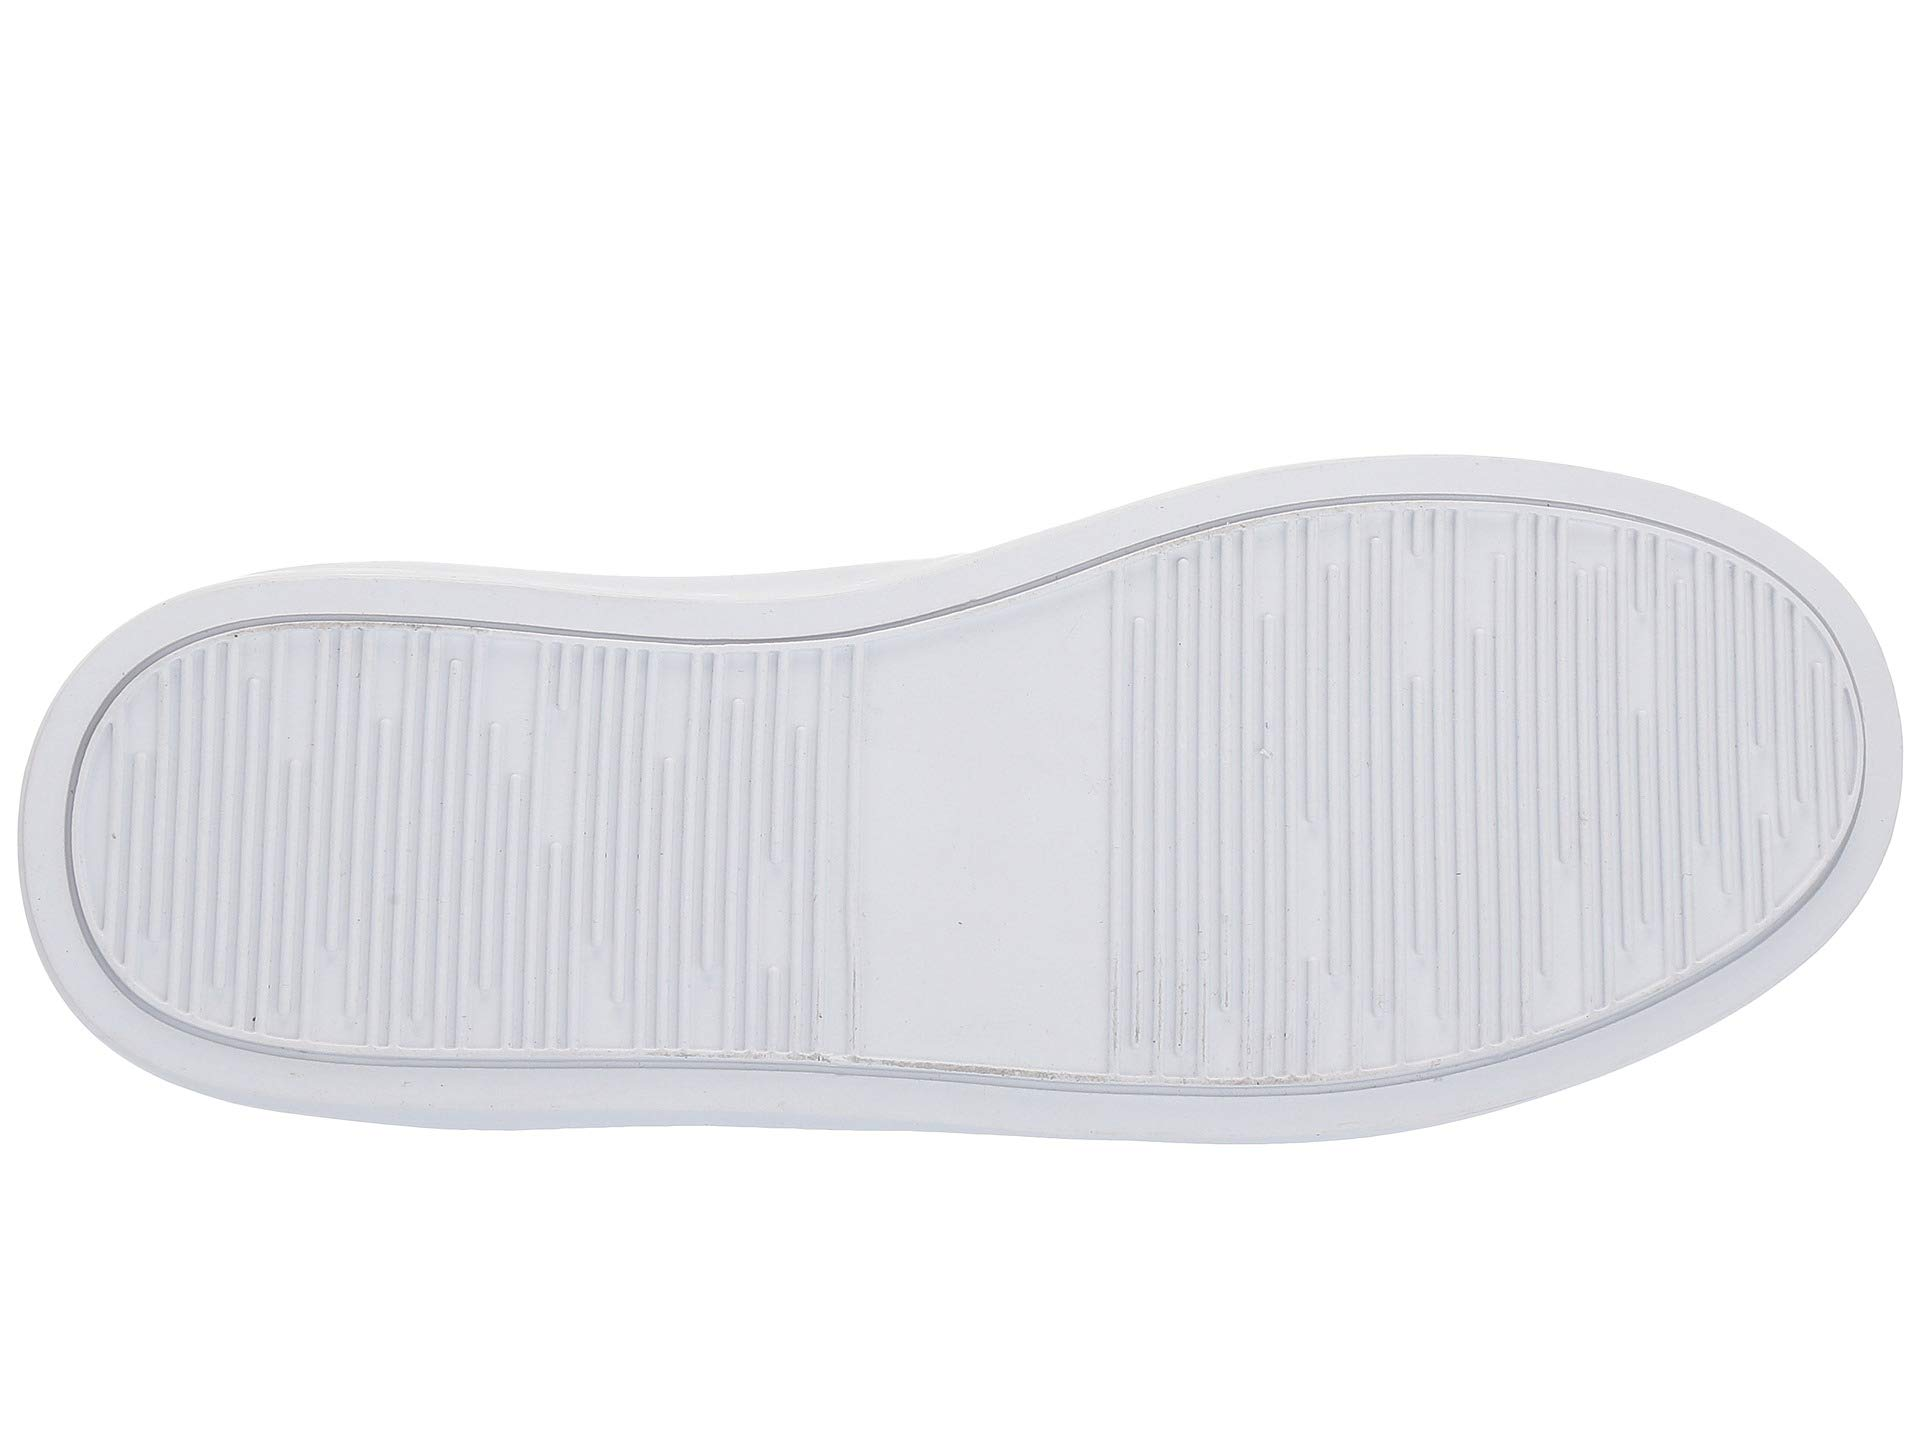line: (1191, 620, 1578, 998), (351, 746, 650, 1030)
